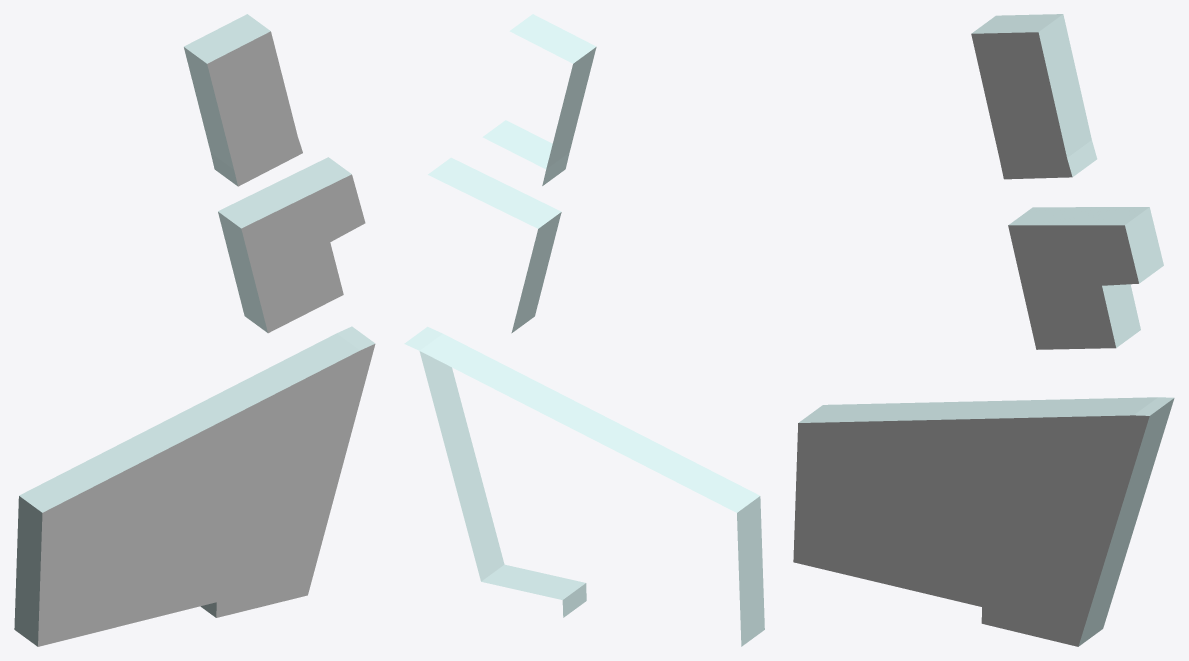
3 renders of one model, left to right at view 1: azimuth 30°, elevation 25°; view 2: azimuth 150°, elevation 25°; view 3: azimuth 330°, elevation 25°, orthographic. The views are drawn at different scales.
Parts seen in each view (by area): view 1: 0_2_1_2_3_0_1; view 2: 0_2_1_2_3_0_1; view 3: 0_2_1_2_3_0_1.
Boxes of the visible parts, x1,y1,x2,y2 form: 0_2_1_2_3_0_1: (14, 14, 375, 646); 0_2_1_2_3_0_1: (404, 14, 764, 646); 0_2_1_2_3_0_1: (793, 14, 1174, 646).
Size of the model in its own units: 24.86 by 40.38 by 3.05.
